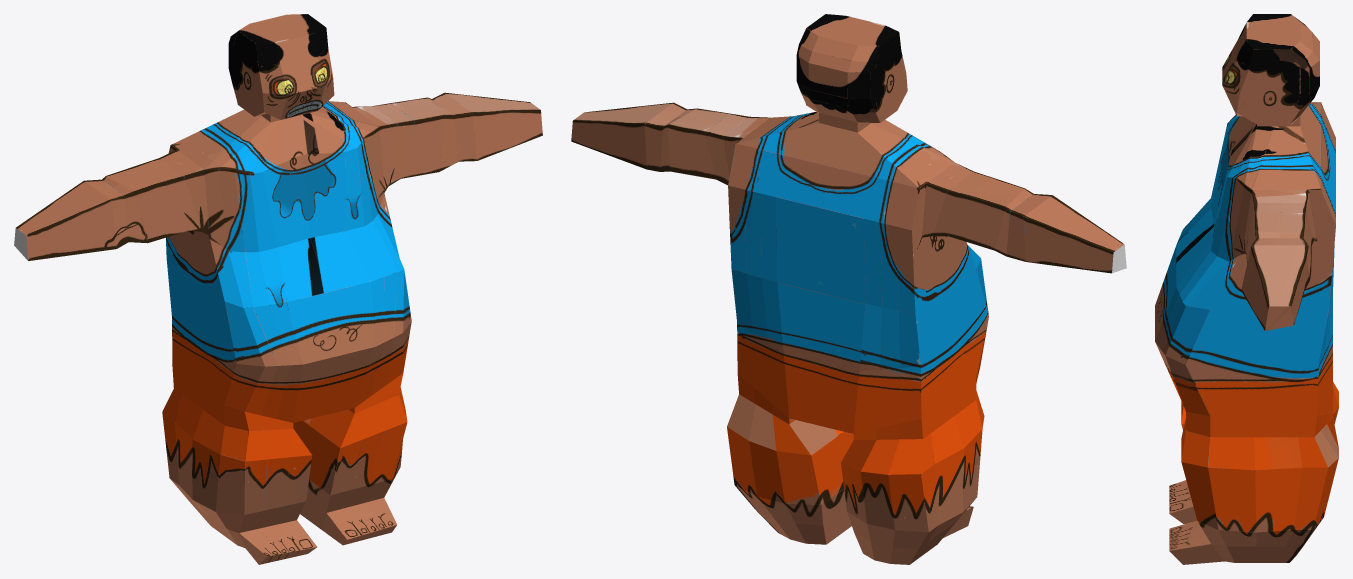
The model's file is ZOMBIE GEANT FBX.fbx.
3 views of the same model, side by side, from view 1: azimuth 30°, elevation 25°; view 2: azimuth 150°, elevation 25°; view 3: azimuth 270°, elevation 25° (orthographic). The views are drawn at different scales.
Visible parts, largest first — view 1: ZOMBIE_GEANT_2; view 2: ZOMBIE_GEANT_2; view 3: ZOMBIE_GEANT_2.
Boxes of the visible parts, x1,y1,x2,y2 form: ZOMBIE_GEANT_2: [14, 14, 542, 564]; ZOMBIE_GEANT_2: [571, 14, 1126, 564]; ZOMBIE_GEANT_2: [1155, 14, 1338, 564].
Bounding box in the file's own units: 1465 × 1329 × 442.
